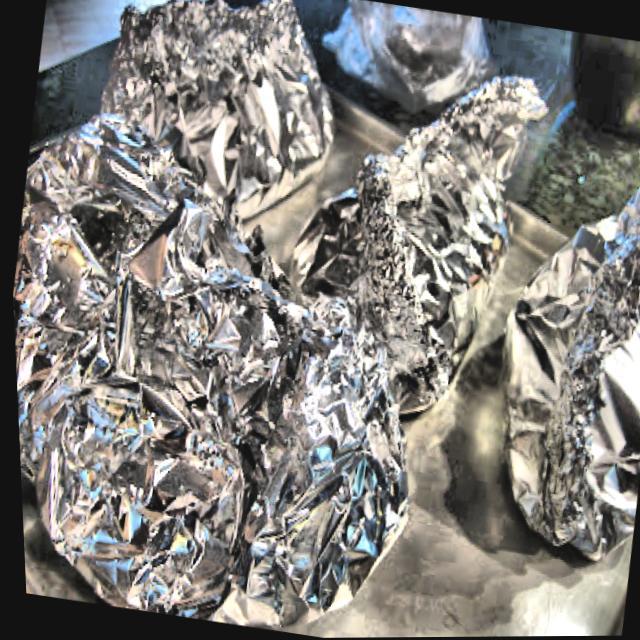Foil: (3, 97, 470, 640), (246, 20, 565, 475), (460, 121, 640, 569), (69, 0, 364, 251)
